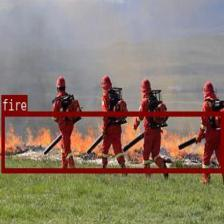fire: (0, 112, 222, 172)
